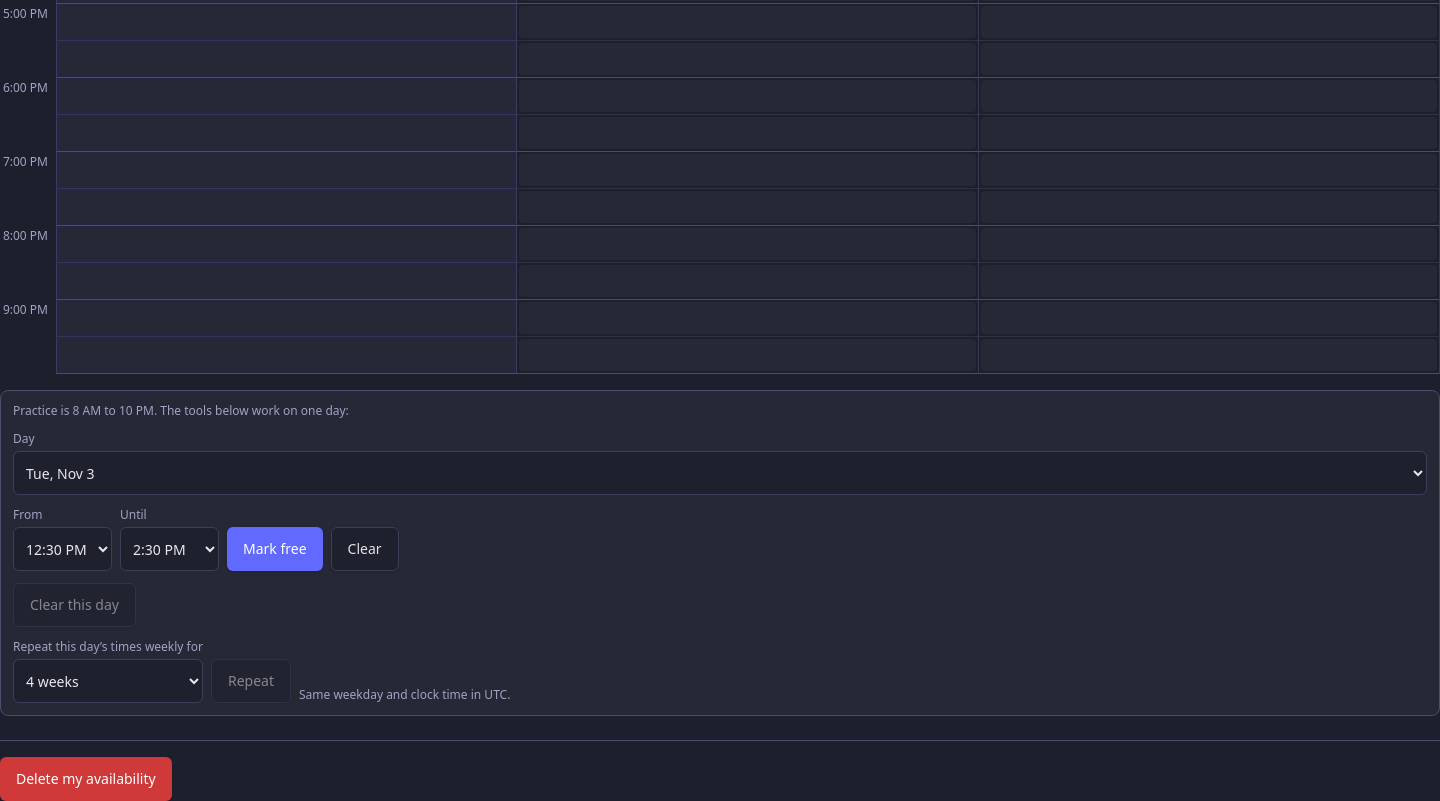
Test: AvailabilityMine › keeps the dialog open and shows why when the delete fails
This screenshot has width=1440, height=801.
(page scrolled)
Click the button "Delete my availability": point(86, 779) [0,757,172,800]
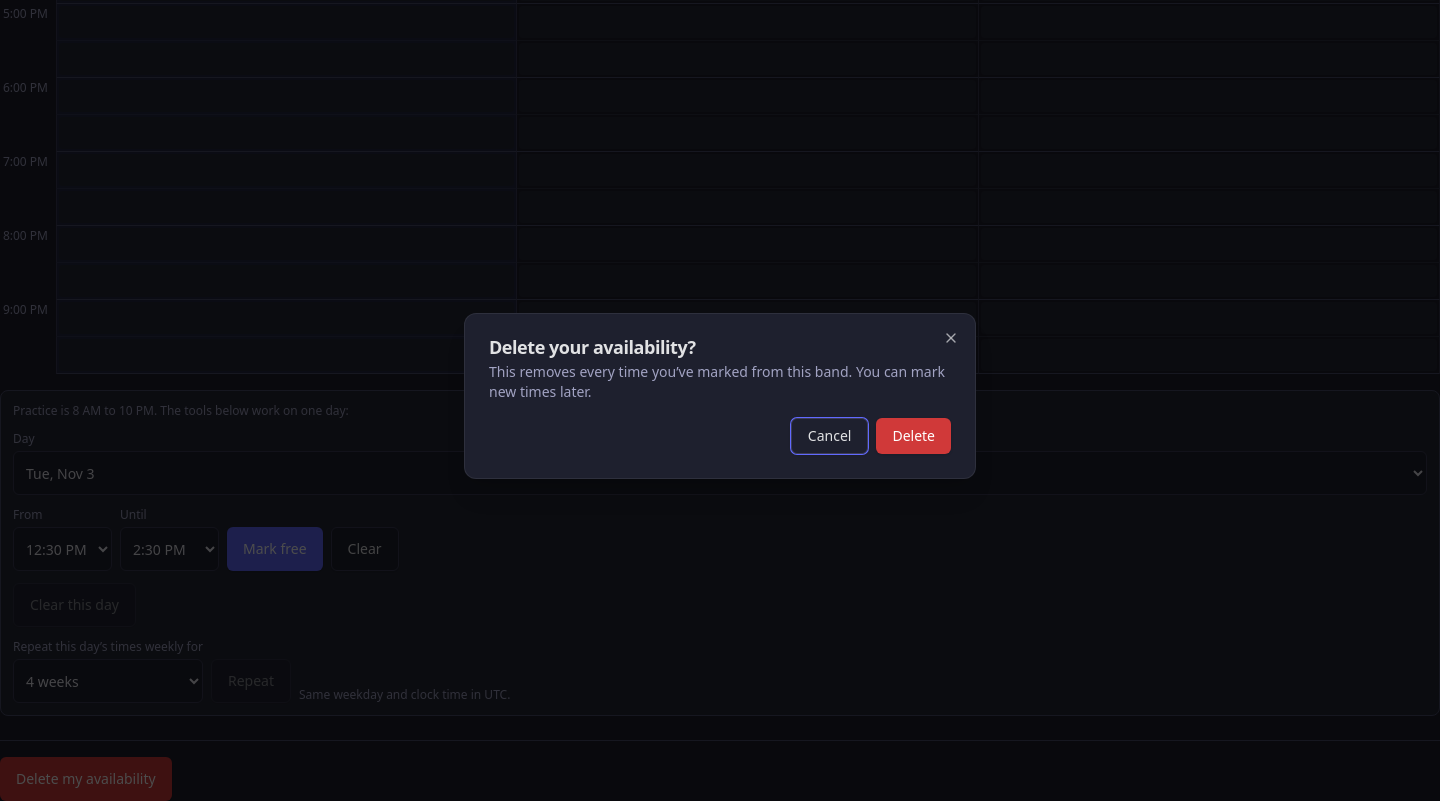
Click the button "Delete": point(914, 436) [876,418,951,454]
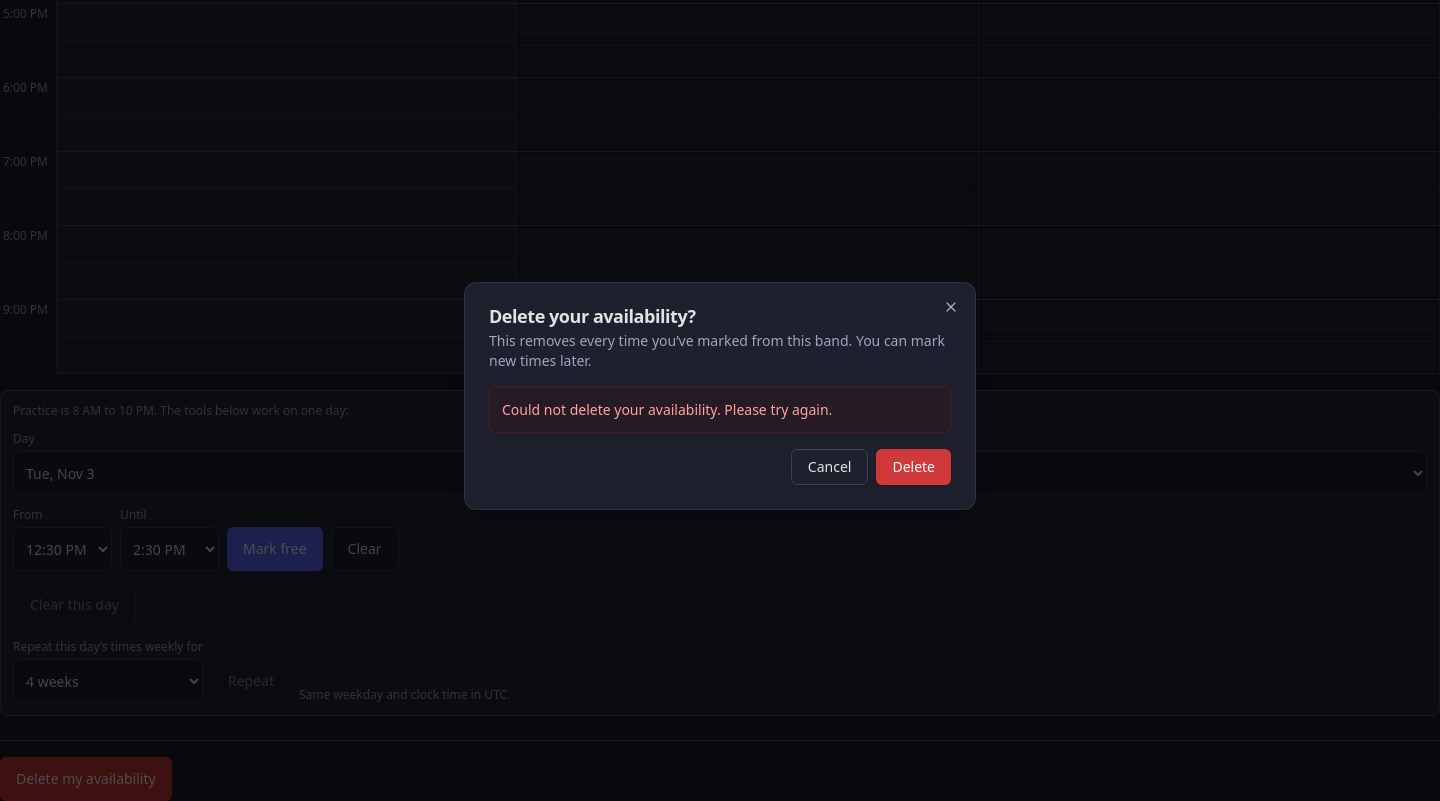
Check: the dialog is shown, box [464,282,976,510]
Check: the message shows "Could not delete your availability", box [502,400,832,419]
